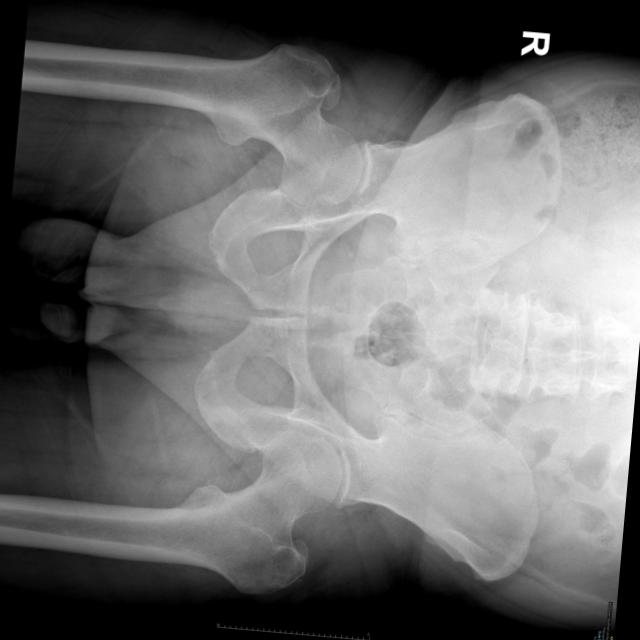normal-left: (97, 430, 340, 595)
normal-right: (142, 44, 360, 210)
